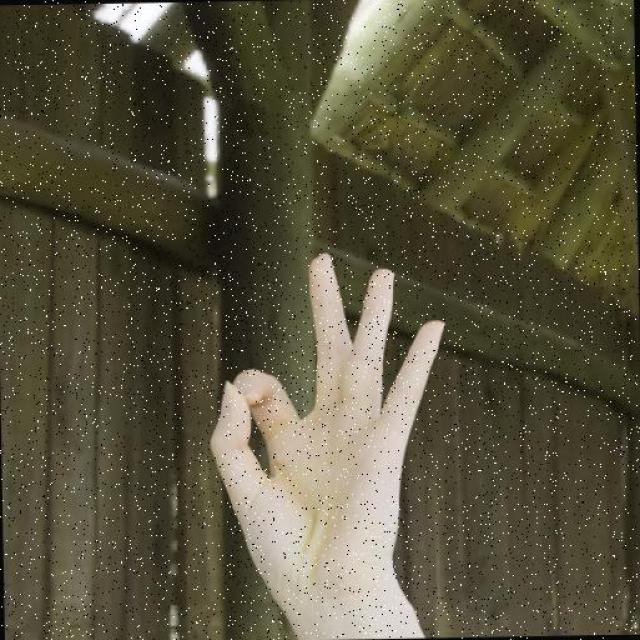F: (202, 245, 452, 606)
